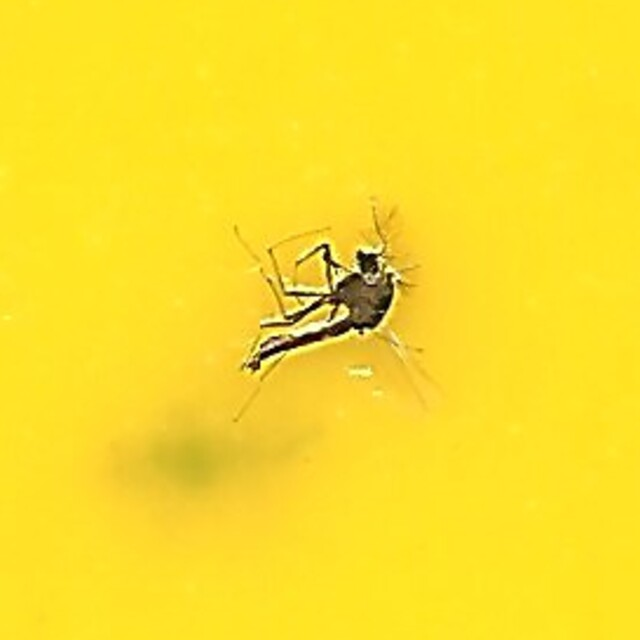Nematocera: (234, 237, 406, 403)
